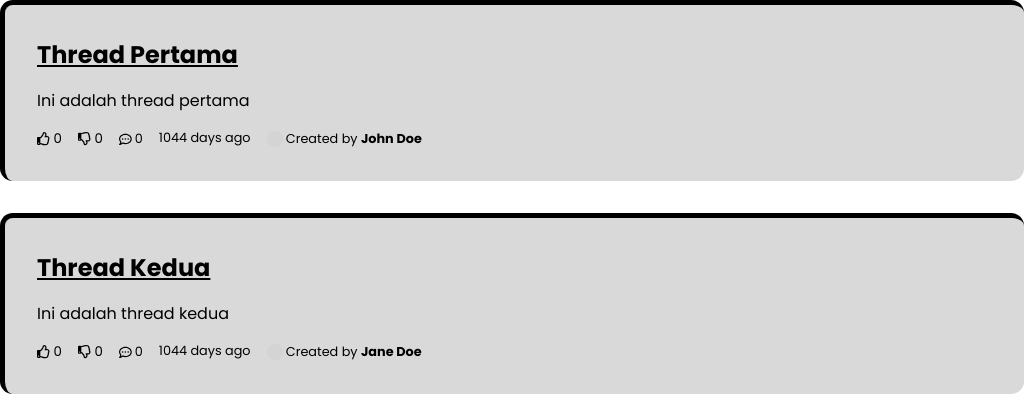
Test: ThreadList component › should add the up vote when user click the up vote button
Click the 1st button with class "likes": (49, 139) [37, 129, 62, 149]
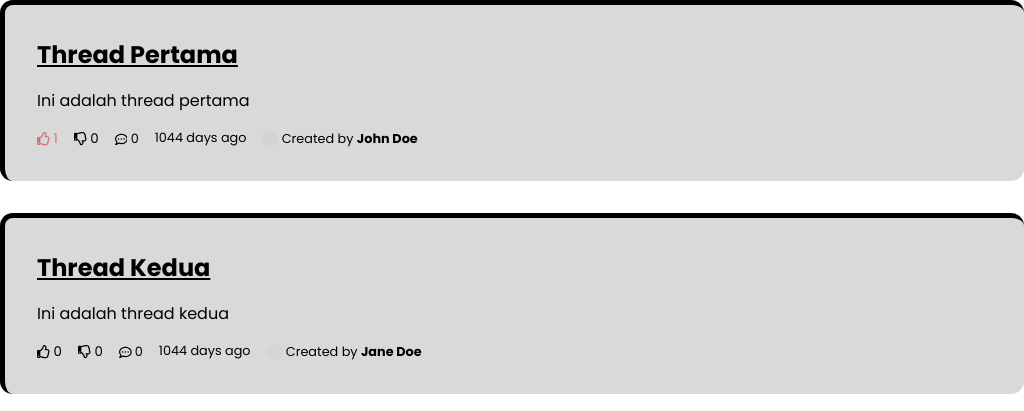
Click the 2nd button with class "likes": (49, 352) [37, 342, 62, 362]
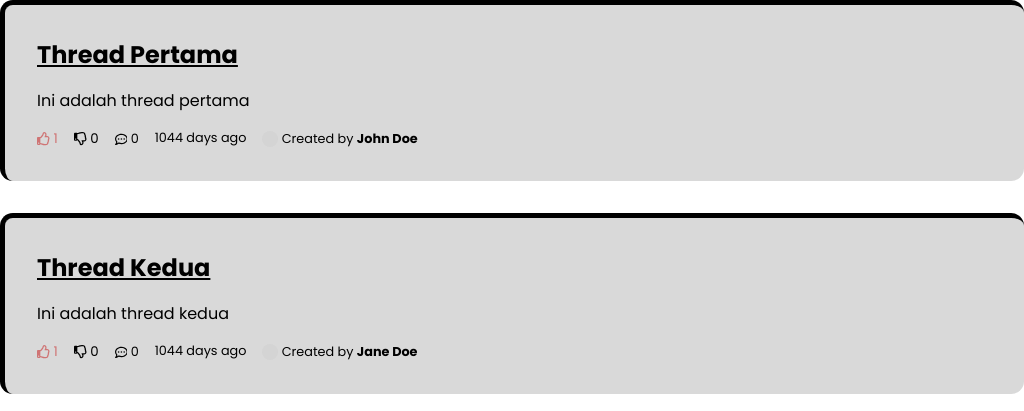
expect the text "1" in the row of "John Doe" is shown: met, box [54, 129, 58, 148]
expect the text "1" in the row of "Jane Doe" is shown: met, box [54, 342, 58, 361]
